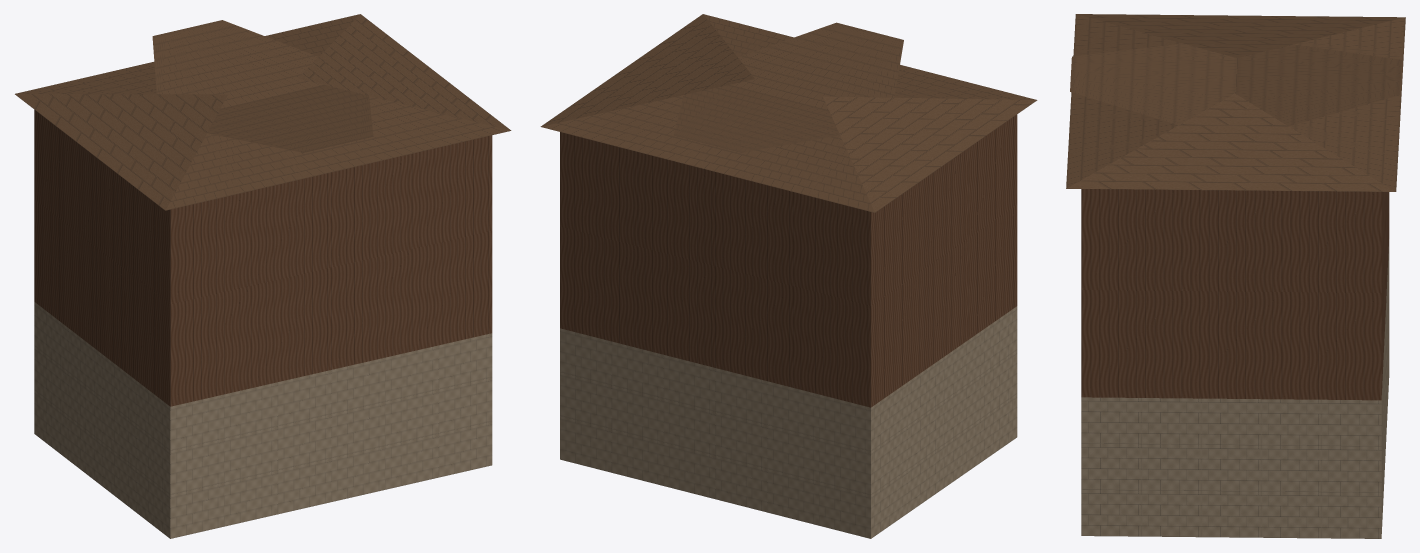
File: bld_c-18_19_508.gltf
3 views of the same model, side by side, from view 1: azimuth 30°, elevation 25°; view 2: azimuth 150°, elevation 25°; view 3: azimuth 270°, elevation 25° (orthographic). The views are drawn at different scales.
Parts seen in each view (by area): view 1: bld_c-18_19_508; view 2: bld_c-18_19_508; view 3: bld_c-18_19_508.
Boxes of the visible parts, x1,y1,x2,y2 form: bld_c-18_19_508: (15, 14, 511, 538); bld_c-18_19_508: (540, 14, 1037, 538); bld_c-18_19_508: (1066, 14, 1405, 538).
Bounding box in the file's own units: 14.05 × 14 × 11.33.
3 materials, 3 textured.
